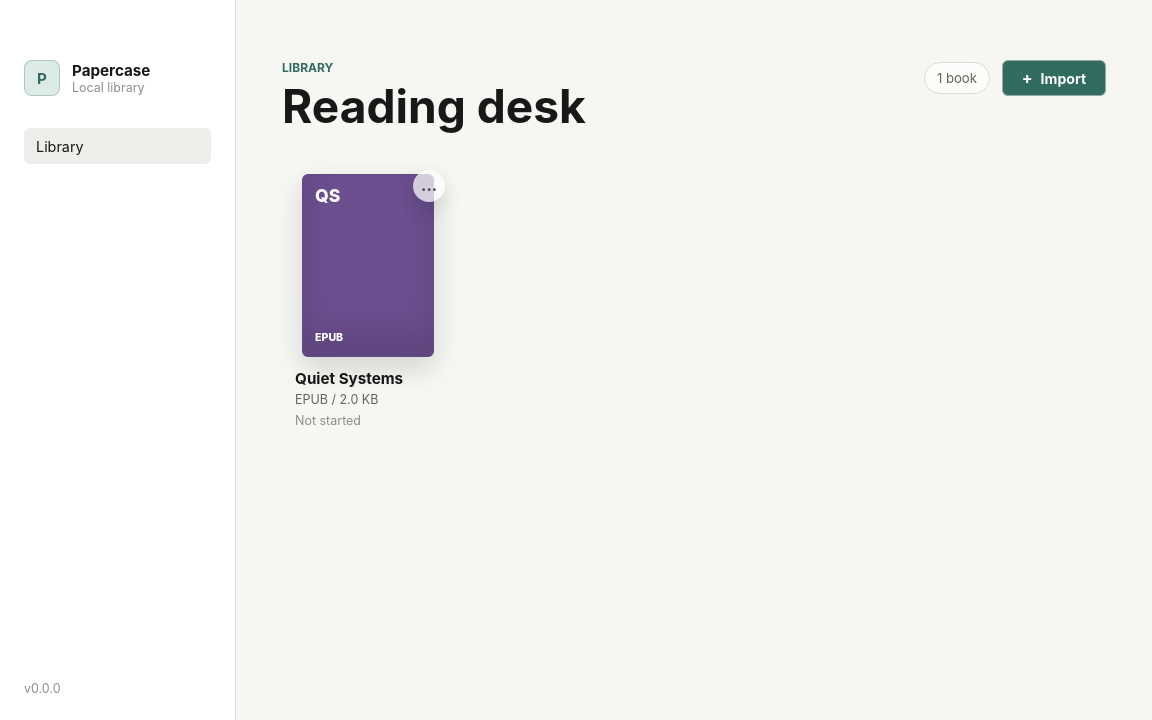
App › routes EPUB books to the EPUB reader
Click the button with aria-label "Open Quiet Systems" at (368, 302), box [295, 174, 441, 430]
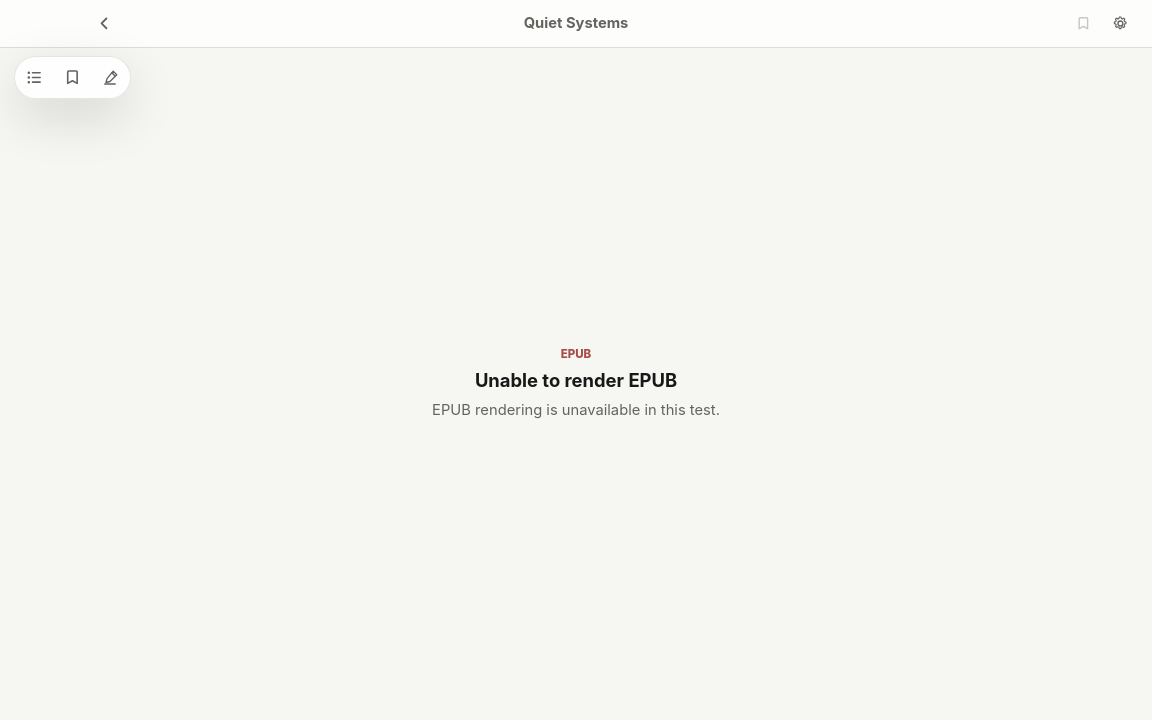
Now the element named "Reader" is shown
Now the message shows "Unable to render EPUB", box [475, 369, 677, 391]
